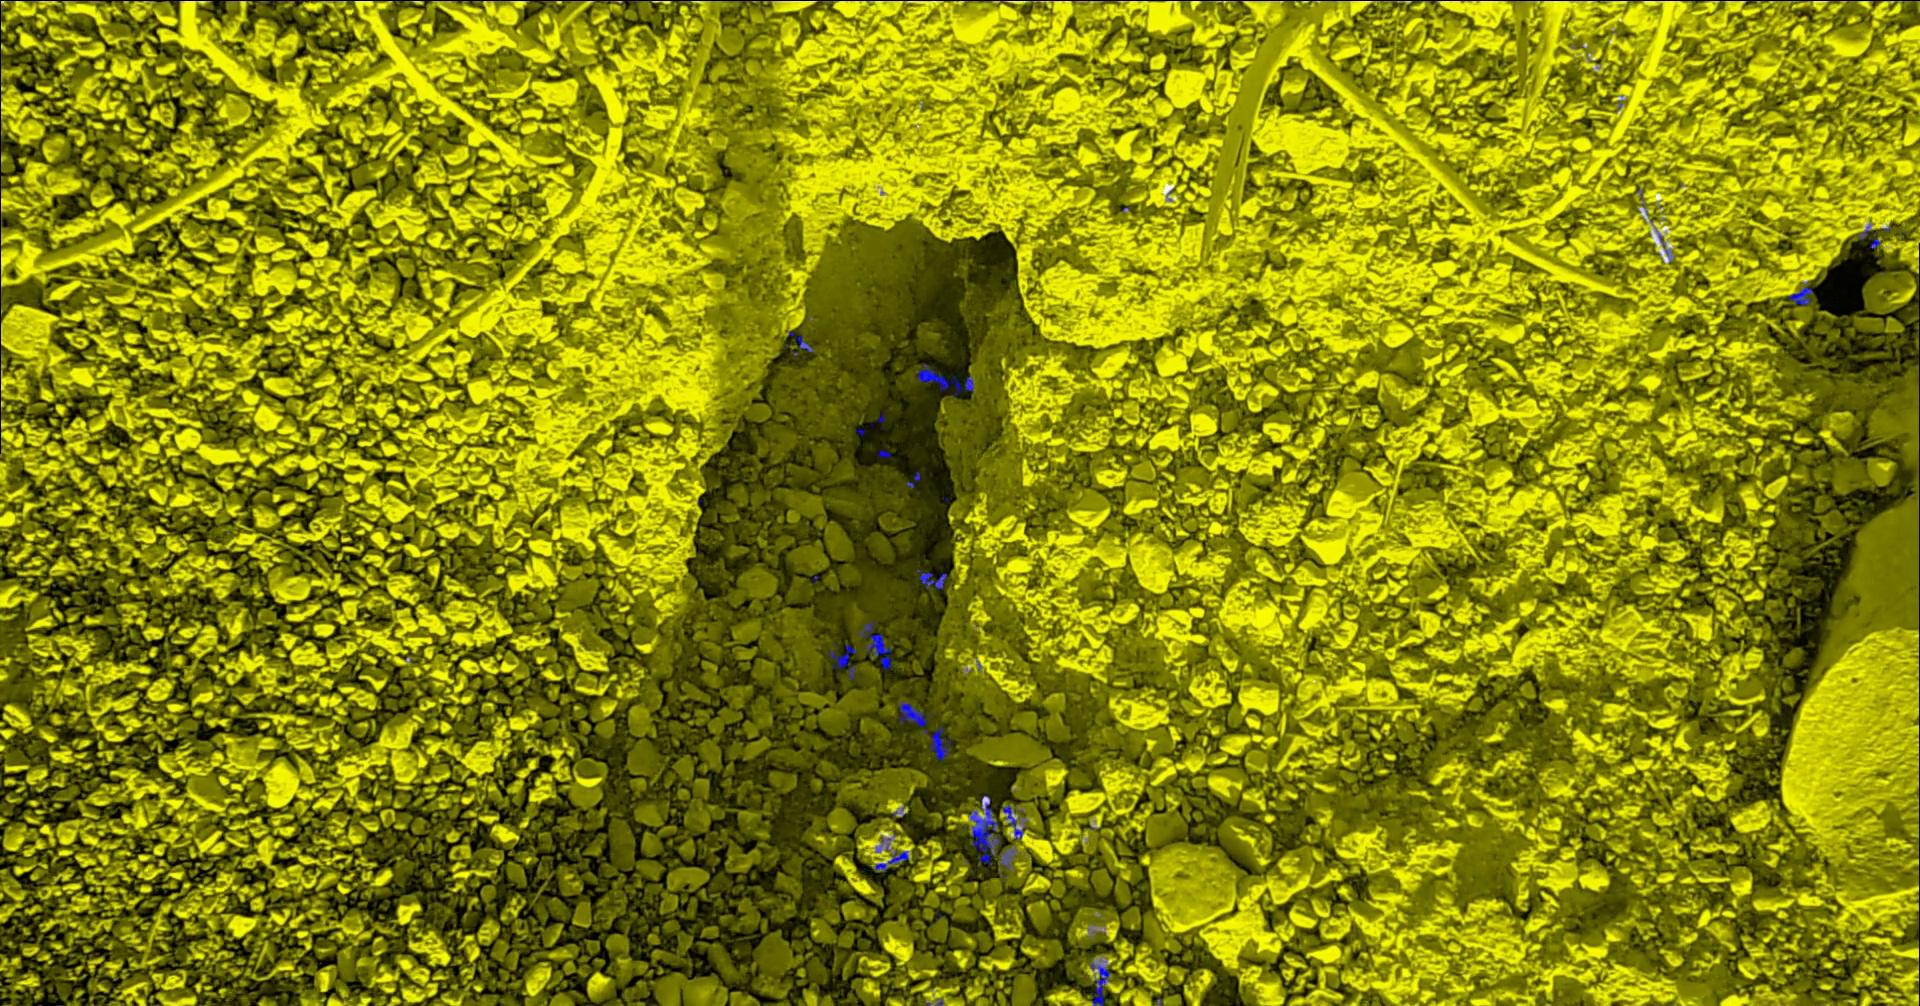ant: (919, 363, 977, 396), (857, 620, 894, 671), (900, 700, 935, 734), (830, 643, 857, 680), (1091, 960, 1112, 1005), (1004, 804, 1027, 840), (875, 850, 910, 873), (931, 727, 952, 760), (917, 569, 949, 589), (1790, 281, 1815, 304), (1860, 225, 1882, 248), (796, 335, 814, 352), (907, 471, 922, 488), (253, 0, 306, 3)
